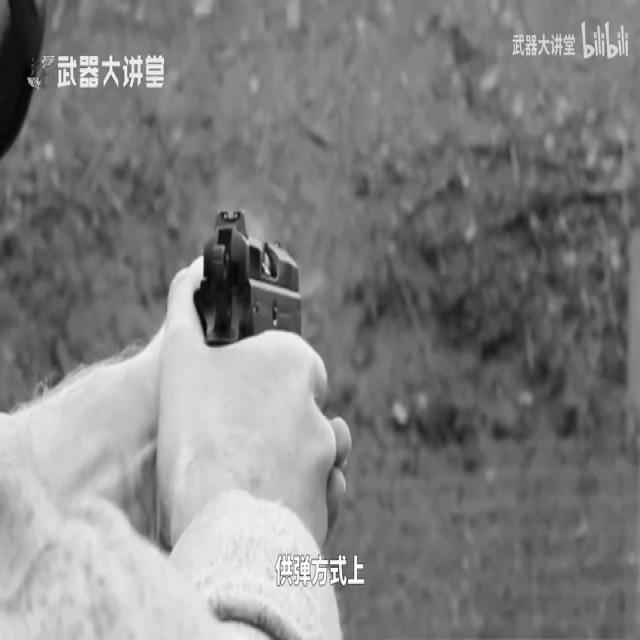Hand-Gun: (173, 120, 365, 476)
